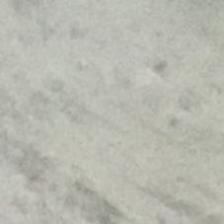Non_Crack: (42, 31, 224, 170)
